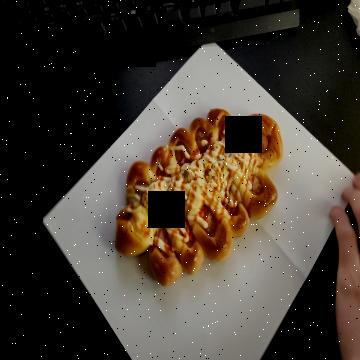pizza_bread: (115, 109, 283, 288)
